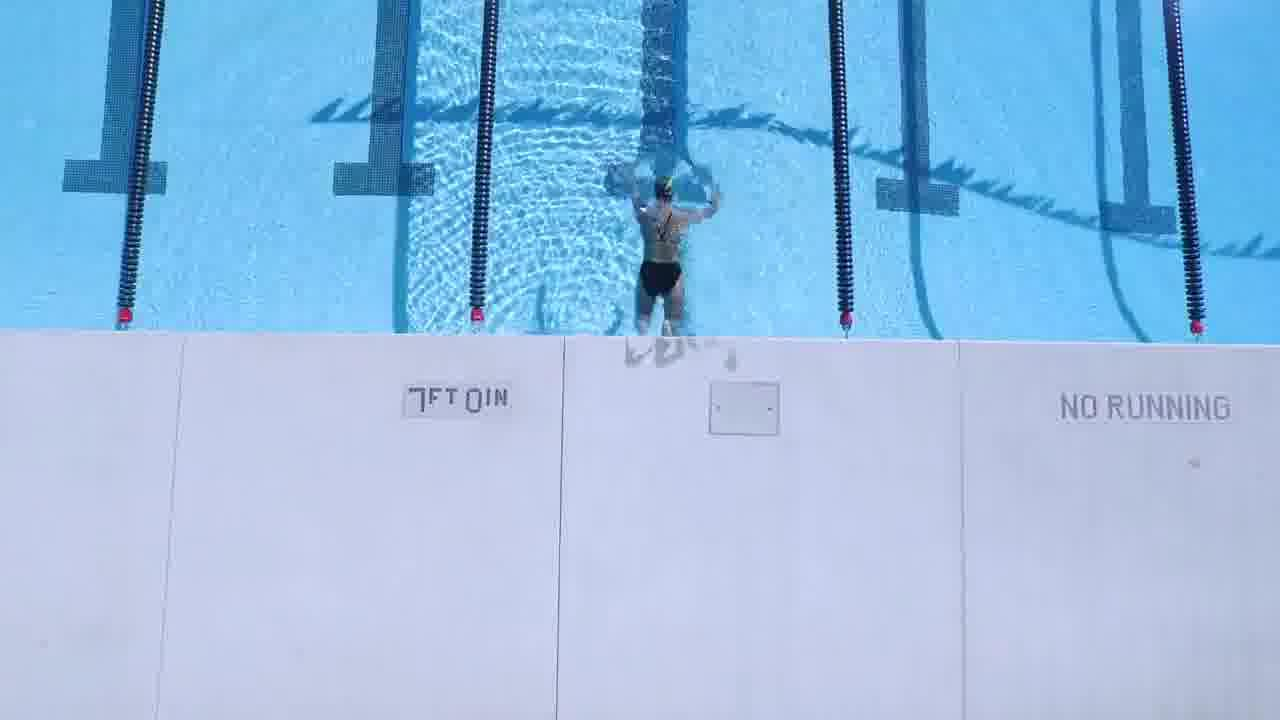swimmer: (628, 171, 690, 334)
